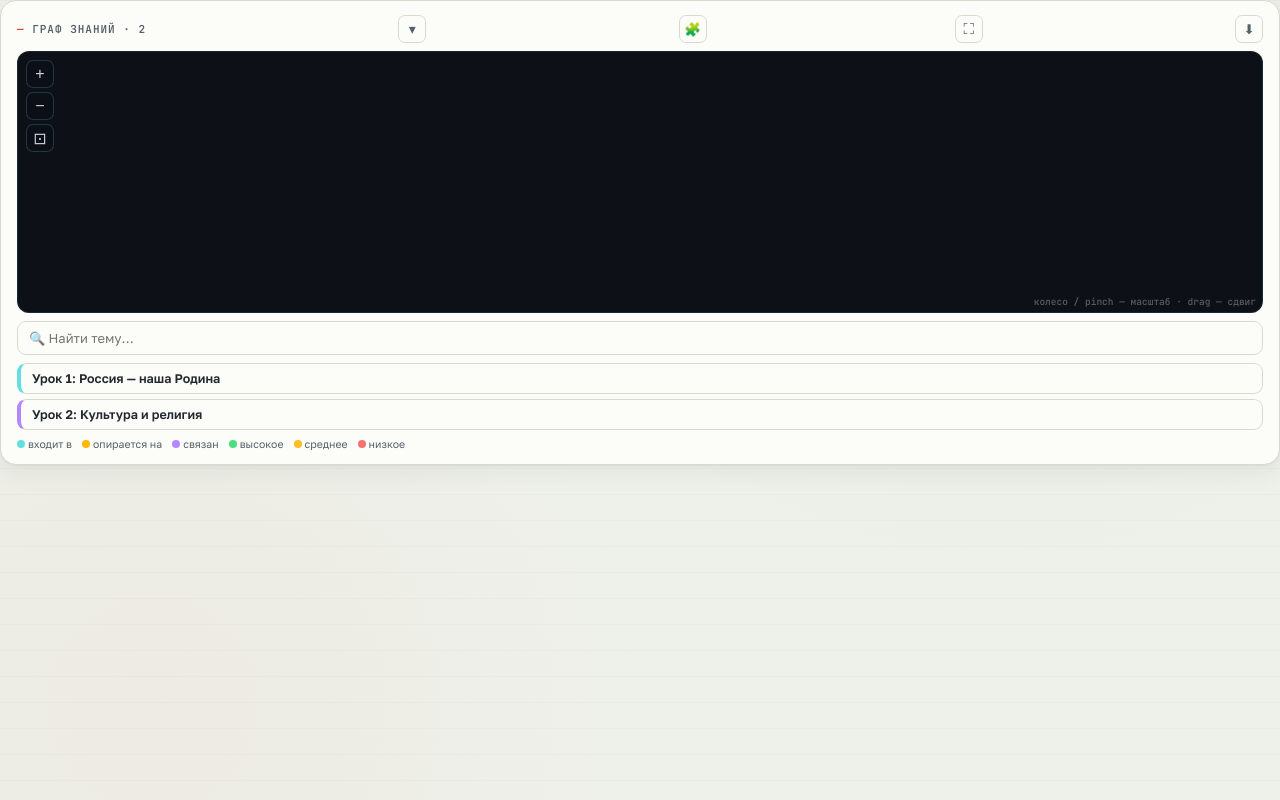
KnowledgeGraphPanel › drill-down: клик по узлу открывает панель wiki (roadmap #3)
Step 1. Click the button "Урок 2: Культура и религия" → (117, 414), box [17,399,1263,430]
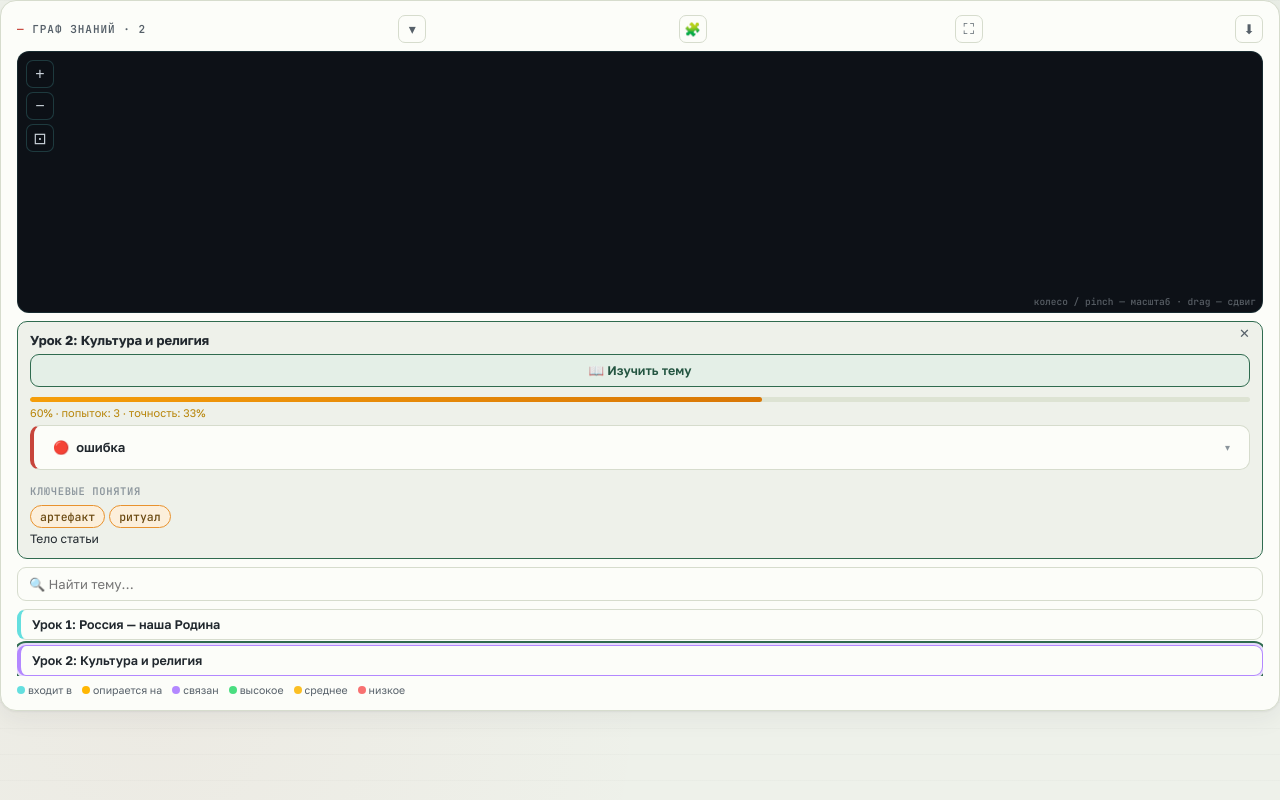
Expected: the text "60% · попыток: 3 · точность: 33%" is shown, [30,406,206,419]
Expected: the text "Тело статьи" is shown, [30,531,99,546]
Expected: the text "Ключевые понятия" is shown, [30,484,141,498]
